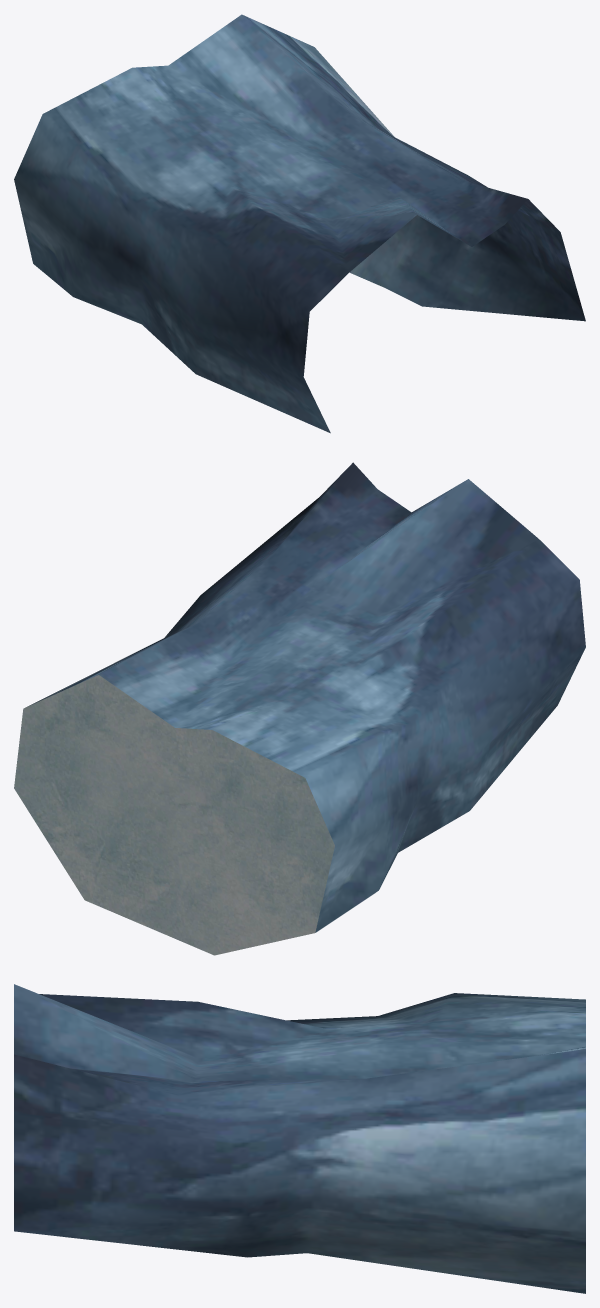
3 renders of one model, top to bottom at view 1: azimuth 30°, elevation 25°; view 2: azimuth 150°, elevation 25°; view 3: azimuth 270°, elevation 25°, orthographic. The views are drawn at different scales.
Parts seen in each view (by area): view 1: Object12; view 2: Object12; view 3: Object12.
Boxes of the visible parts, left/top/right/bottom form: Object12: left=14, top=14, right=585, bottom=433; Object12: left=14, top=462, right=585, bottom=955; Object12: left=14, top=984, right=585, bottom=1293.
Bounding box in the file's own units: 32516 × 26090 × 48371.
